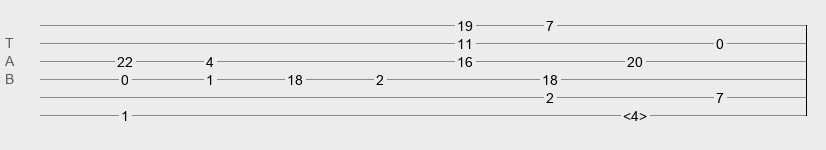0: (121, 72, 129, 82), (716, 36, 724, 46)
1: (121, 108, 129, 118), (206, 72, 214, 82)
11: (457, 36, 473, 46)
16: (457, 54, 473, 64)
18: (287, 72, 303, 82), (542, 72, 558, 82)
19: (457, 18, 473, 28)
2: (376, 72, 384, 82), (546, 90, 554, 100)
20: (627, 54, 643, 64)
22: (117, 54, 133, 64)
4: (206, 54, 214, 64)
7: (546, 18, 554, 28), (716, 90, 724, 100)
harmonic: (623, 108, 647, 118)
